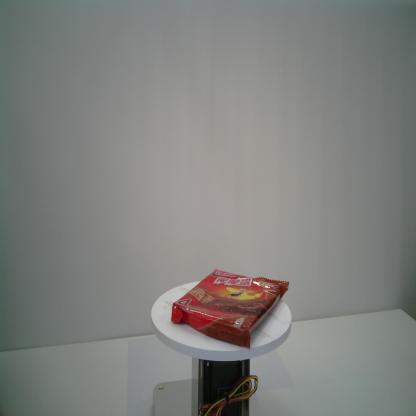Dessert: (170, 268, 288, 353)
